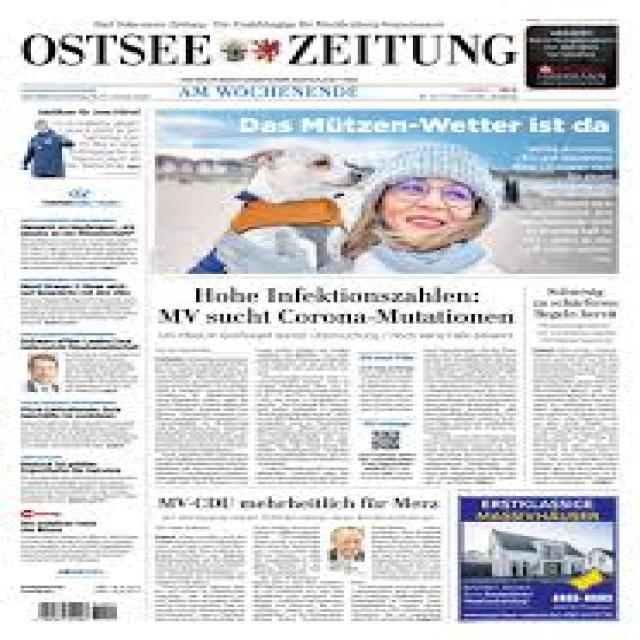paper: (0, 0, 637, 640)
